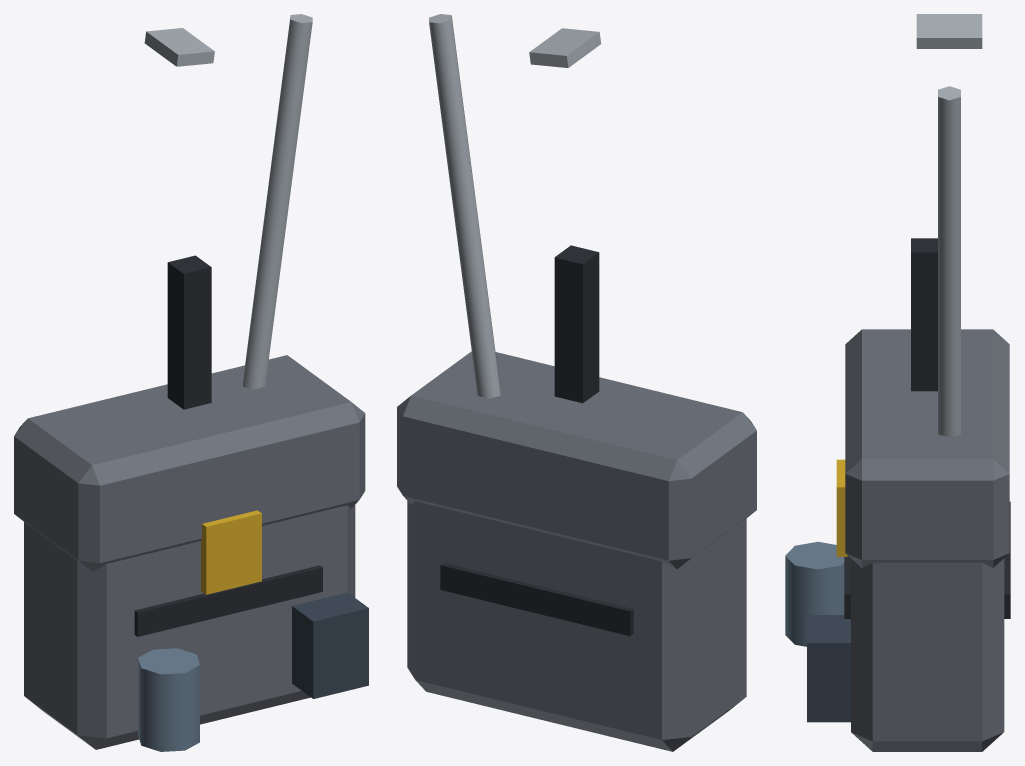
3 views of the same model, side by side, from view 1: azimuth 30°, elevation 25°; view 2: azimuth 150°, elevation 25°; view 3: azimuth 270°, elevation 25° (orthographic). The views are drawn at different scales.
Parts seen in each view (by area): view 1: dweller_tool_scrapbag; view 2: dweller_tool_scrapbag; view 3: dweller_tool_scrapbag.
Part boxes in pixels (left/top/right/bottom): dweller_tool_scrapbag: left=14, top=14, right=368, bottom=751; dweller_tool_scrapbag: left=397, top=14, right=756, bottom=751; dweller_tool_scrapbag: left=785, top=14, right=1010, bottom=751.
Bounding box in the file's own units: 0.31 × 0.6747 × 0.206.
